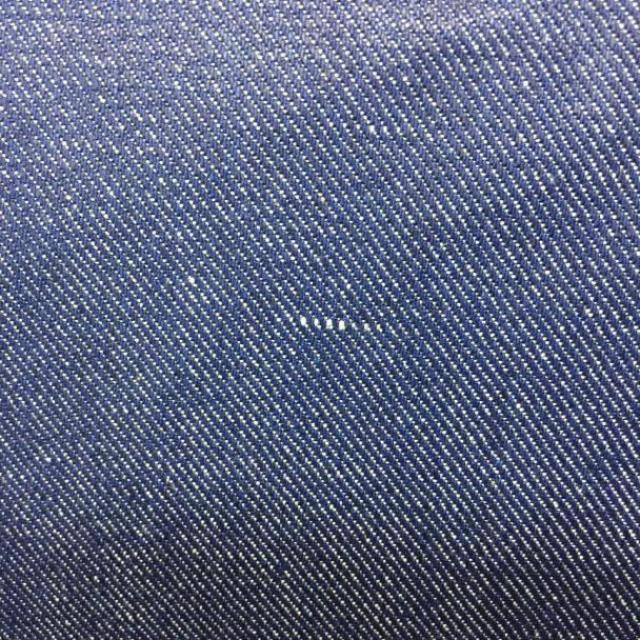Knot: (299, 316, 351, 331)
